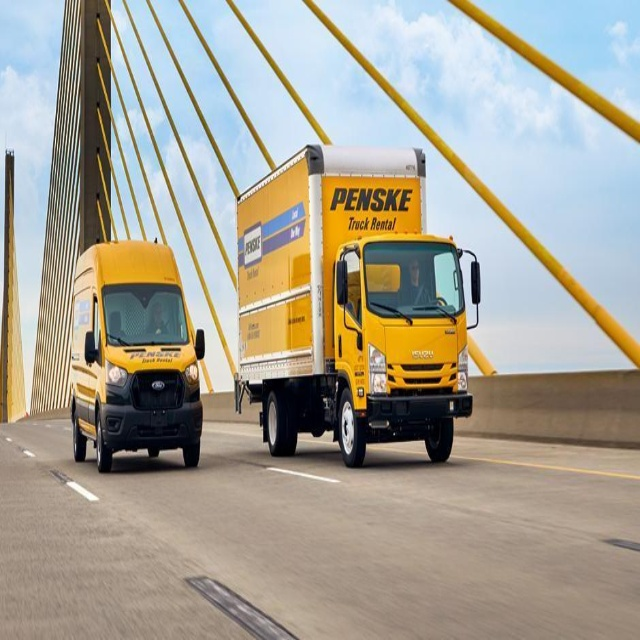Truck: (234, 143, 481, 469)
Van: (69, 240, 206, 474)
